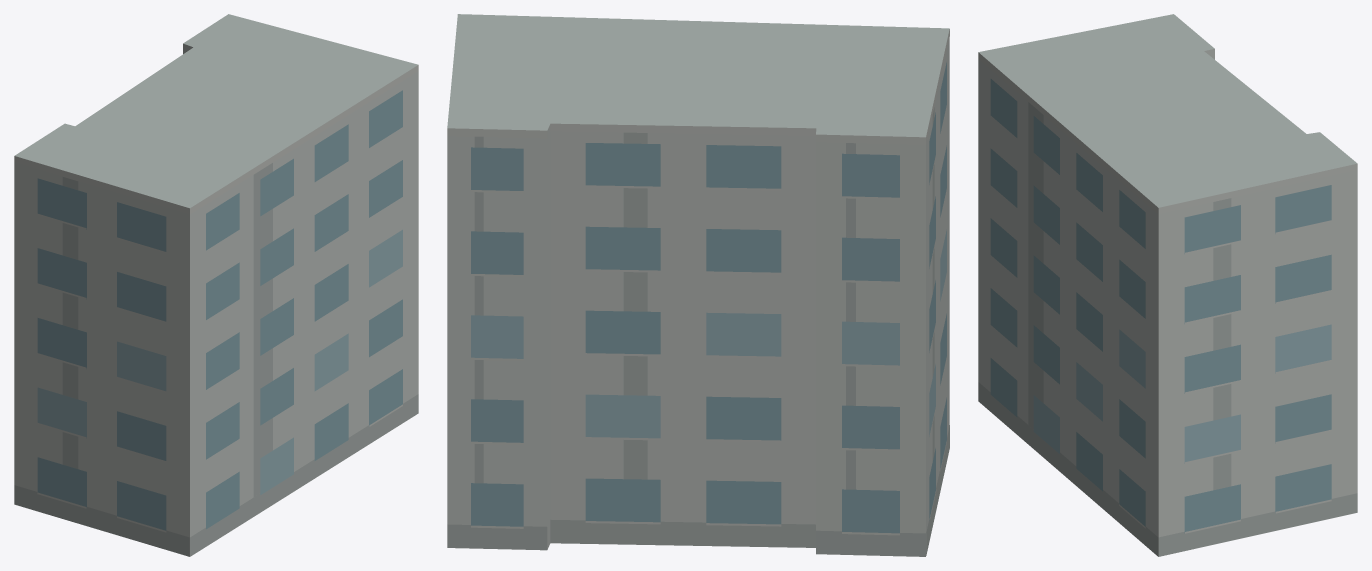
Rendered from survey-upis-32851182.glb.
The picture shows the model from 3 angles, left to right: view 1: azimuth 30°, elevation 25°; view 2: azimuth 150°, elevation 25°; view 3: azimuth 270°, elevation 25°; orthographic projection. The views are drawn at different scales.
Parts seen in each view (by area): view 1: survey-upis-32851182.tmp; view 2: survey-upis-32851182.tmp; view 3: survey-upis-32851182.tmp.
Part boxes in pixels (<box>): survey-upis-32851182.tmp: <box>14,14,418,556</box>; survey-upis-32851182.tmp: <box>447,14,949,556</box>; survey-upis-32851182.tmp: <box>978,14,1357,556</box>.
Bounding box in the file's own units: 15.85 × 13.3 × 13.11.
